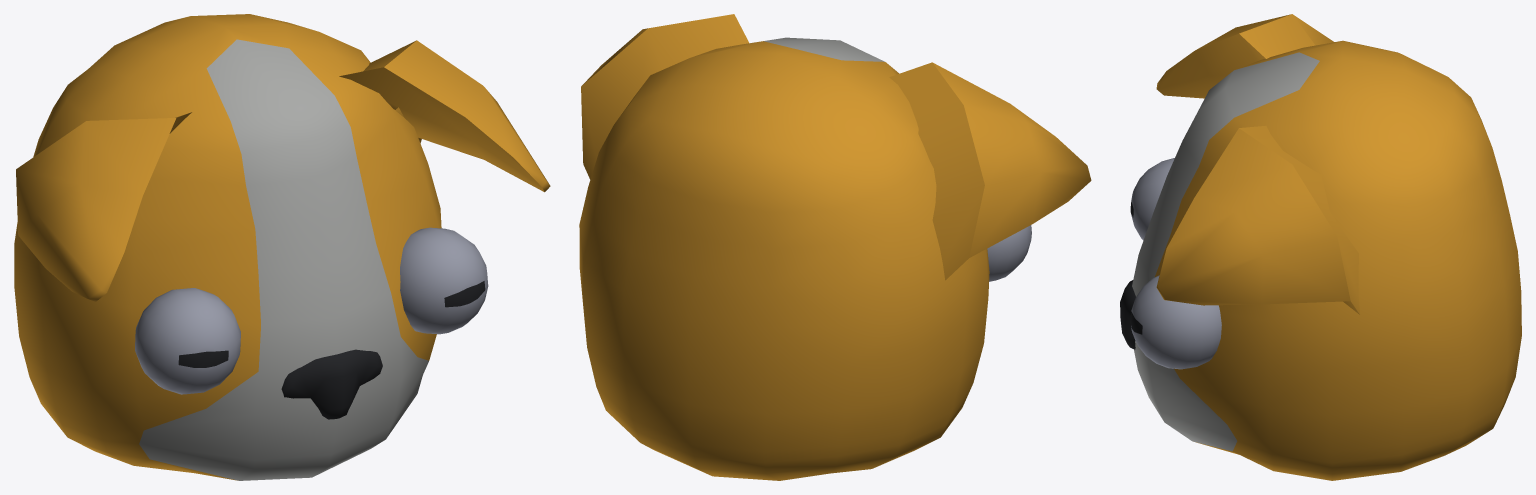
Rendered from Dog.glb.
3 renders of one model, left to right at view 1: azimuth 30°, elevation 25°; view 2: azimuth 150°, elevation 25°; view 3: azimuth 270°, elevation 25°, orthographic. The views are drawn at different scales.
Visible parts, largest first — view 1: SK_Dog; view 2: SK_Dog; view 3: SK_Dog.
Part boxes in pixels (x1,y1,x2,y2): SK_Dog: [14, 14, 550, 480]; SK_Dog: [579, 14, 1091, 480]; SK_Dog: [1120, 14, 1521, 480].
Bounding box in the file's own units: 2.14 × 1.83 × 1.72.
Materials: 1 (1 with a texture image).
